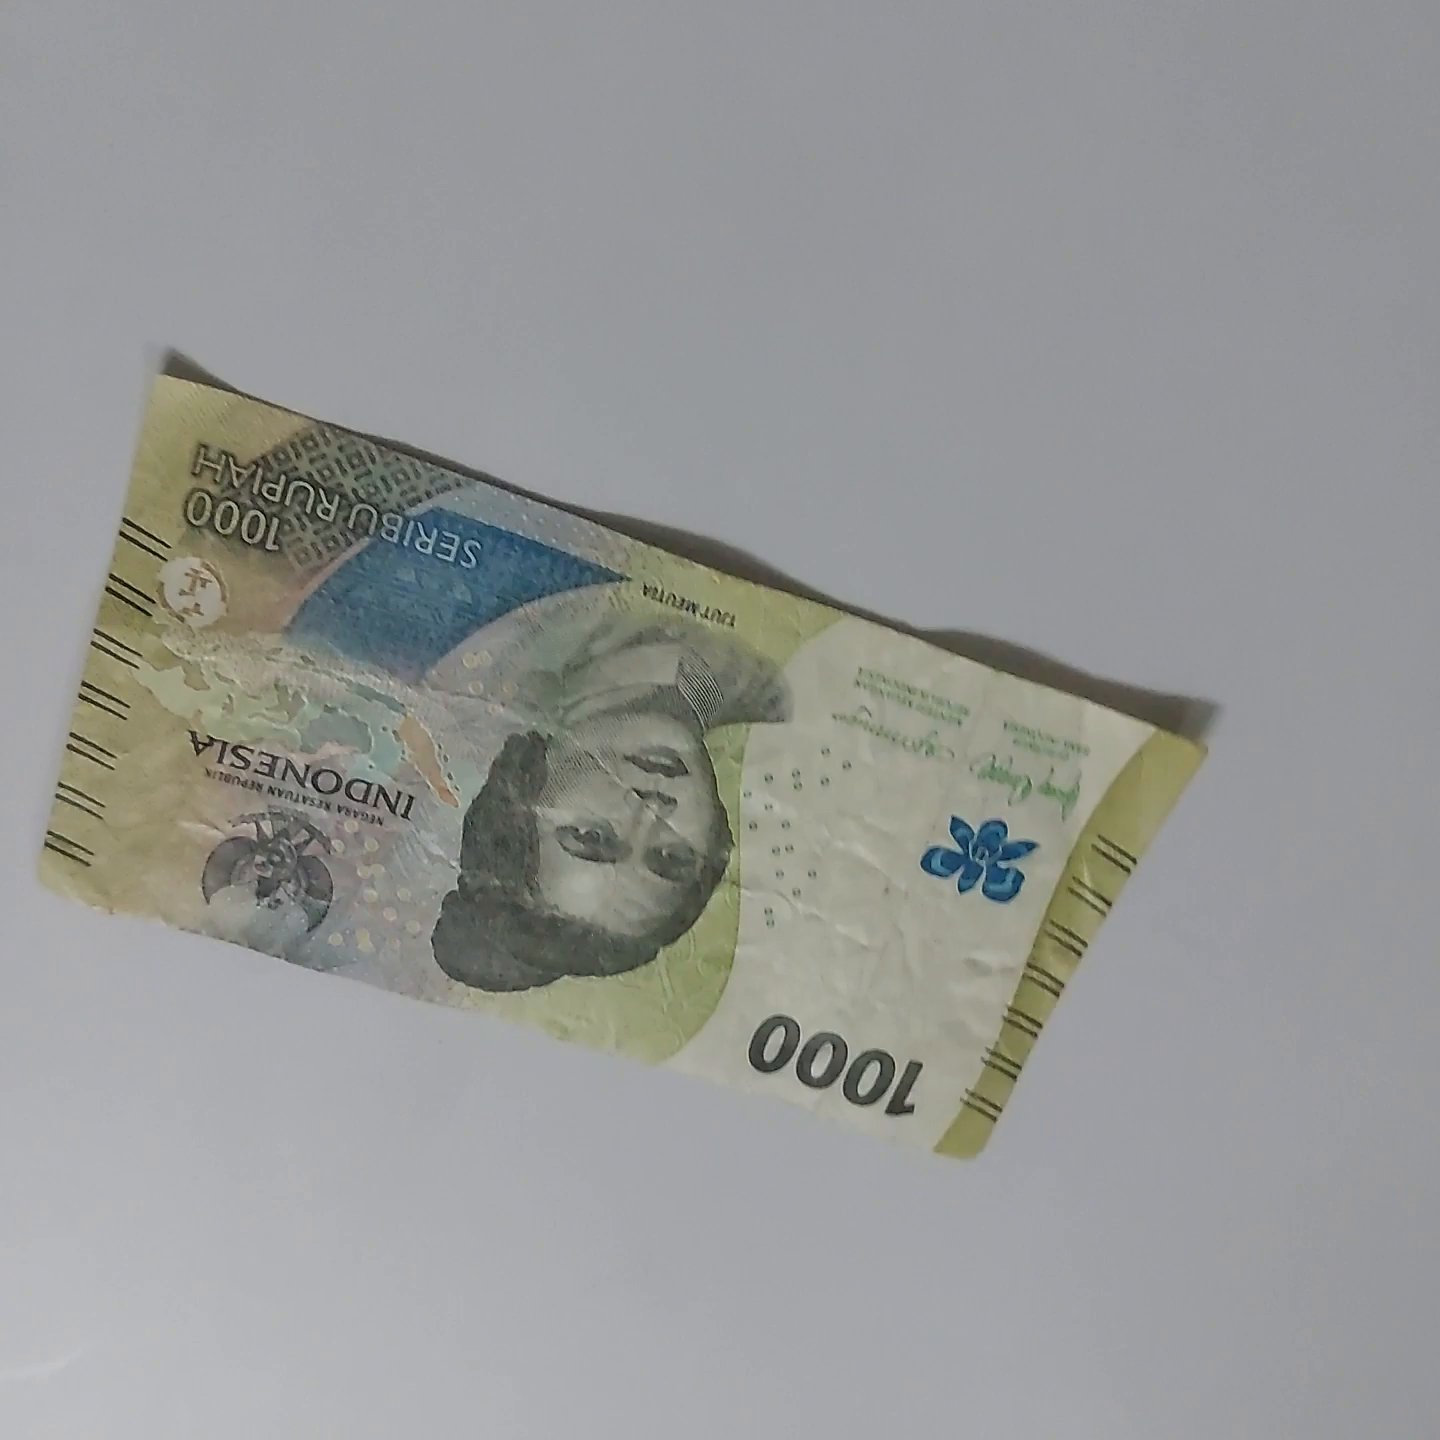1k: (46, 328, 1191, 1211)
